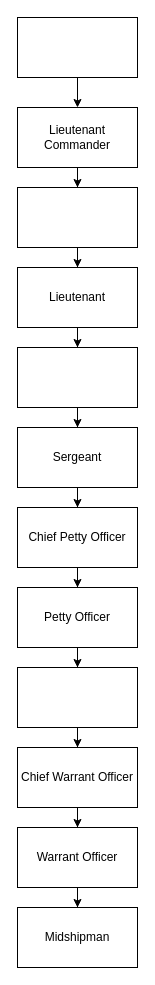
This 155x985 diagram has some shape labels left out. Here are the shapes that lost their labels. From the top down, the centre of each, then its label:
At [77,47]: "Captain".
At [77,217]: "First Lieutenant".
At [77,377]: "Gunnery Sergeant".
At [77,697]: "Junior Petty Officer".
